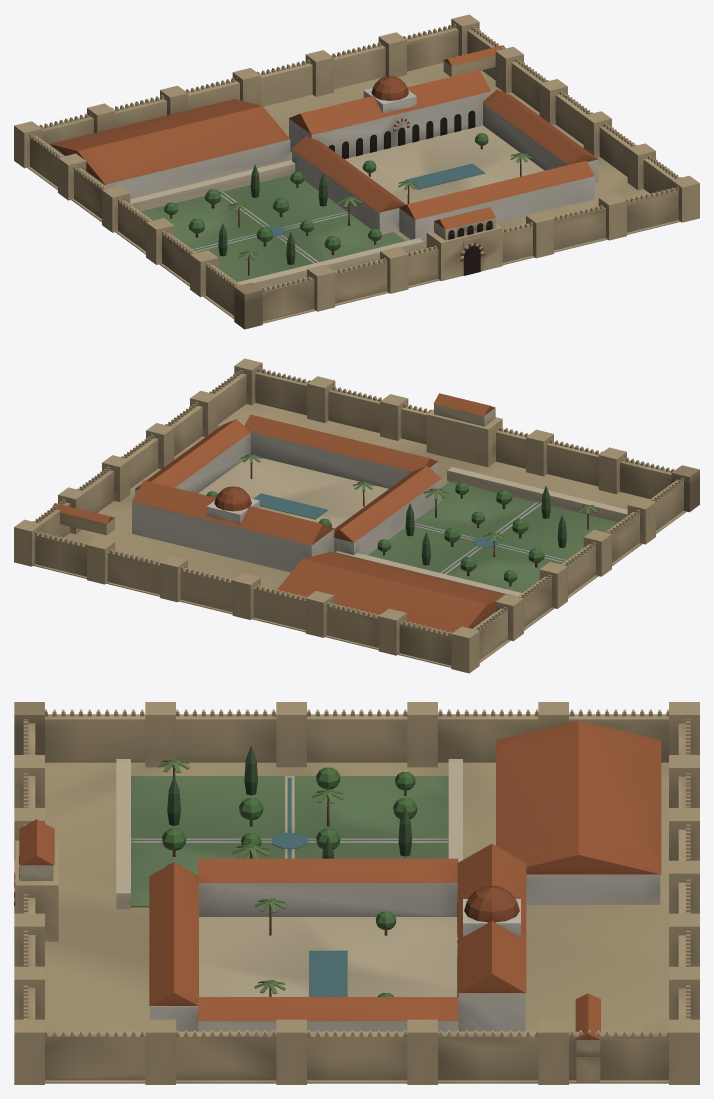
Rendered from umayyad-alcazar.glb.
3 renders of one model, top to bottom at view 1: azimuth 30°, elevation 25°; view 2: azimuth 150°, elevation 25°; view 3: azimuth 270°, elevation 25°, orthographic. The views are drawn at different scales.
Visible parts, largest first — view 1: p1_halls, p0_walls, p2_domes; view 2: p1_halls, p0_walls, p2_domes; view 3: p0_walls, p1_halls, p2_domes.
Boxes of the visible parts, x1,y1,x2,y2 form: p1_halls: (50,70,598,288); p0_walls: (14,14,699,329); p2_domes: (363,45,505,113); p1_halls: (132,393,627,632); p0_walls: (14,358,699,673); p2_domes: (52,486,259,535); p0_walls: (14,702,699,1084); p1_halls: (14,720,661,1031); p2_domes: (463,885,600,1082).
Size of the model in its own units: 162 by 20.7 by 142.
